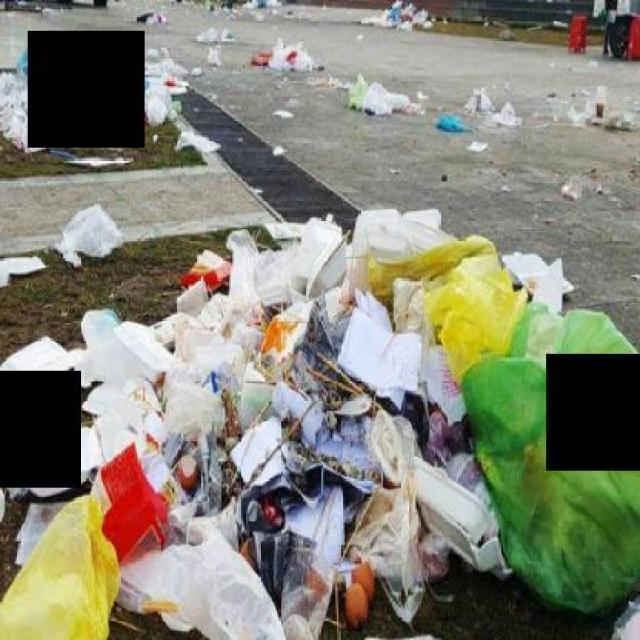plastic bag: (1, 187, 640, 632), (12, 331, 263, 637), (441, 265, 634, 617), (10, 27, 178, 142), (52, 198, 126, 274), (554, 83, 640, 142), (245, 40, 323, 75), (196, 23, 238, 72), (357, 77, 414, 112), (461, 85, 494, 114), (491, 103, 523, 128), (434, 111, 464, 135)
